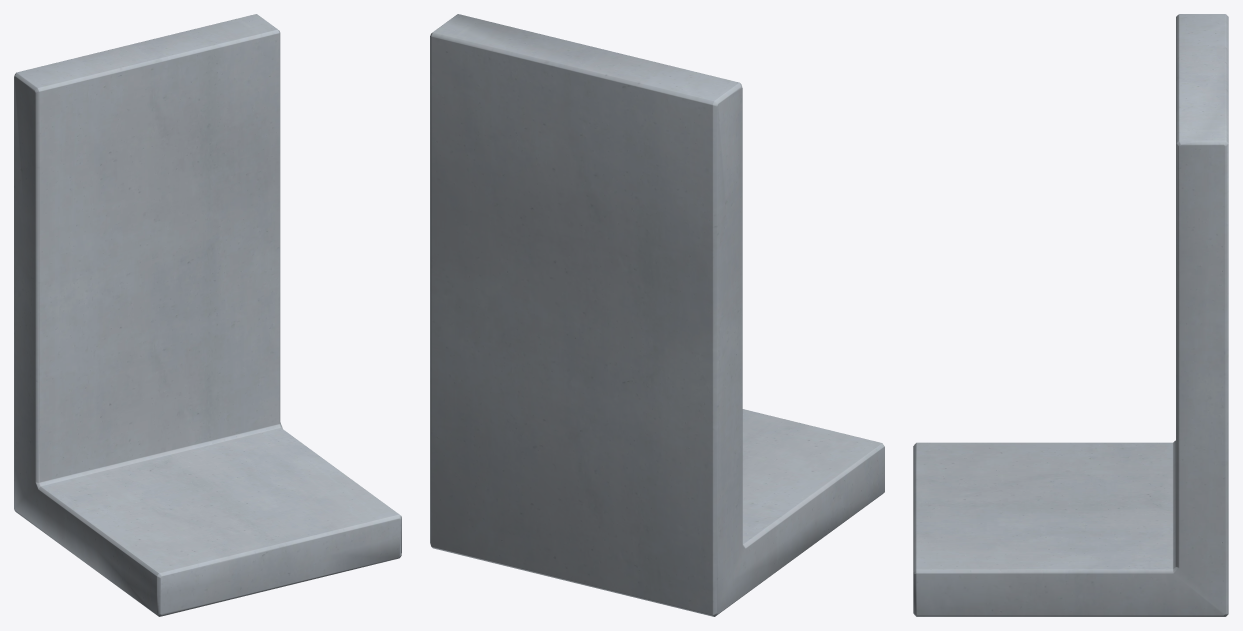
File: Mur Oporowy.glb
3 renders of one model, left to right at view 1: azimuth 30°, elevation 25°; view 2: azimuth 150°, elevation 25°; view 3: azimuth 270°, elevation 25°, orthographic. The views are drawn at different scales.
Parts seen in each view (by area): view 1: Angle 305; view 2: Angle 305; view 3: Angle 305.
Boxes of the visible parts, box(x1,y1,x2,y2) form: Angle 305: box(14, 14, 401, 616); Angle 305: box(430, 14, 884, 616); Angle 305: box(913, 14, 1228, 616).
Bounding box in the file's own units: 1.75 × 3 × 1.8.
Materials: 1 (1 with a texture image).
